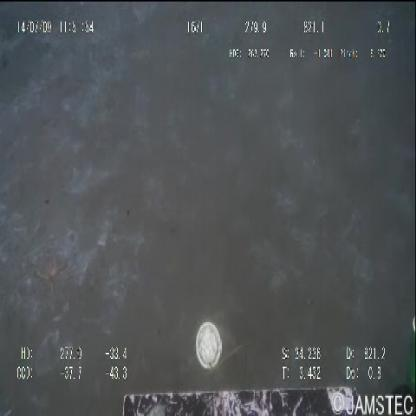Rác: (196, 322, 223, 374)
